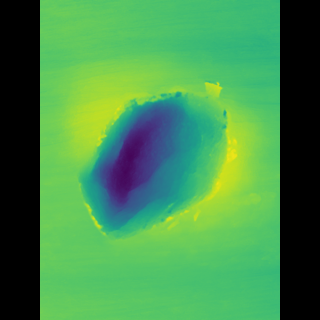Loch: (89, 80, 239, 245)
